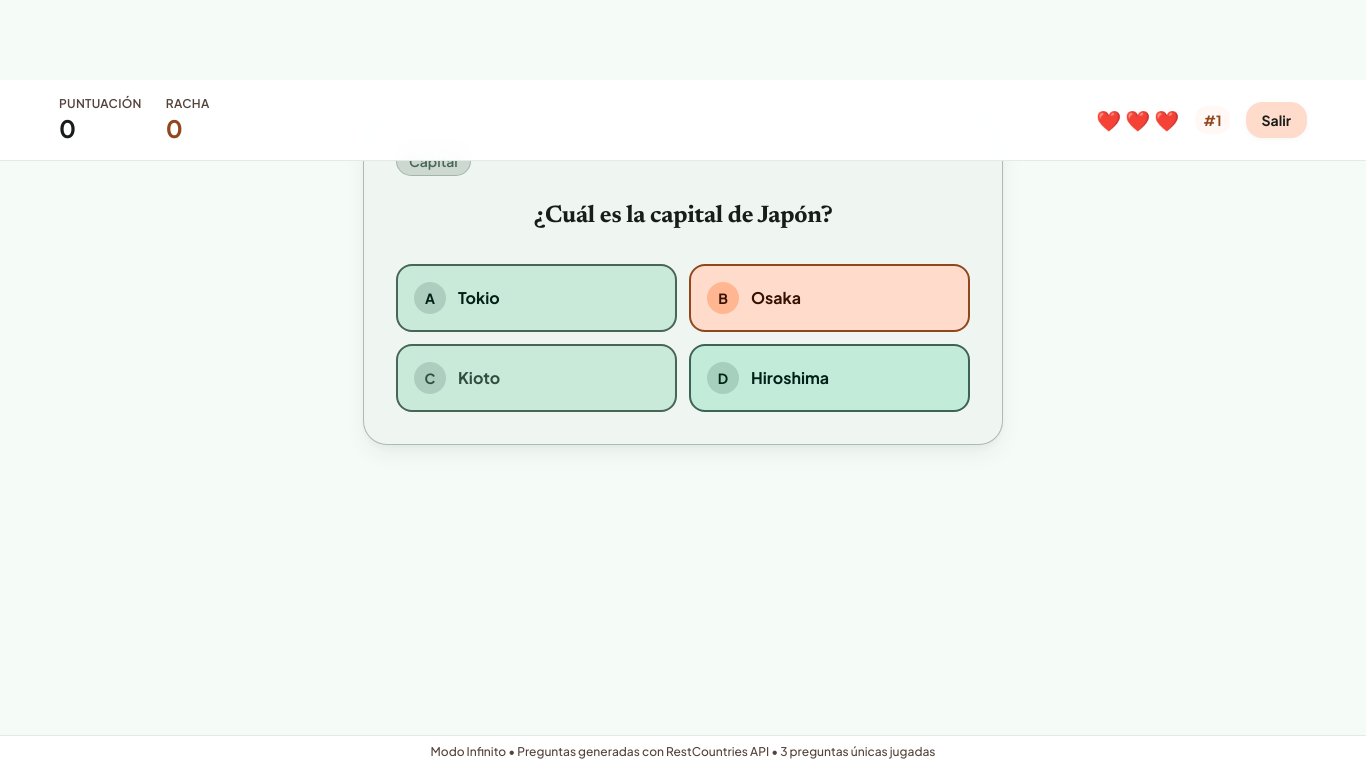
Test: TriviaInfinitePage — Accesibilidad › Cursor en botones de respuesta › tras responder los botones están deshabilitados
Check: the heading "¿Cuál es la capital de Japón?" is shown, box [533, 204, 833, 228]
What coordinates should you click on to do the following:
click the button "A Tokio"
I would click on:
 (430, 298)
Its box is [396, 264, 677, 332].
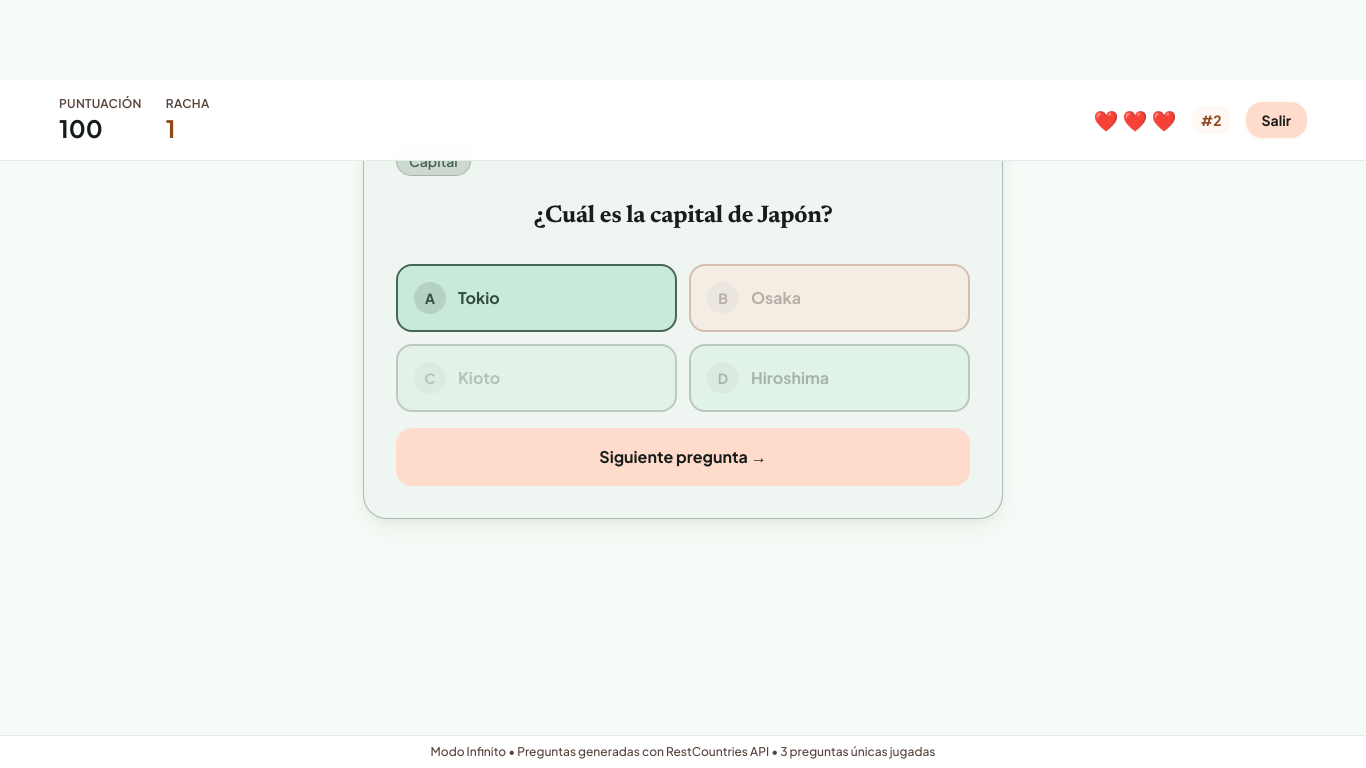
Check: the button "A Tokio" is disabled, box [396, 264, 677, 332]
Check: the button "B Osaka" is disabled, box [689, 264, 970, 332]
Check: the button "C Kioto" is disabled, box [396, 344, 677, 412]
